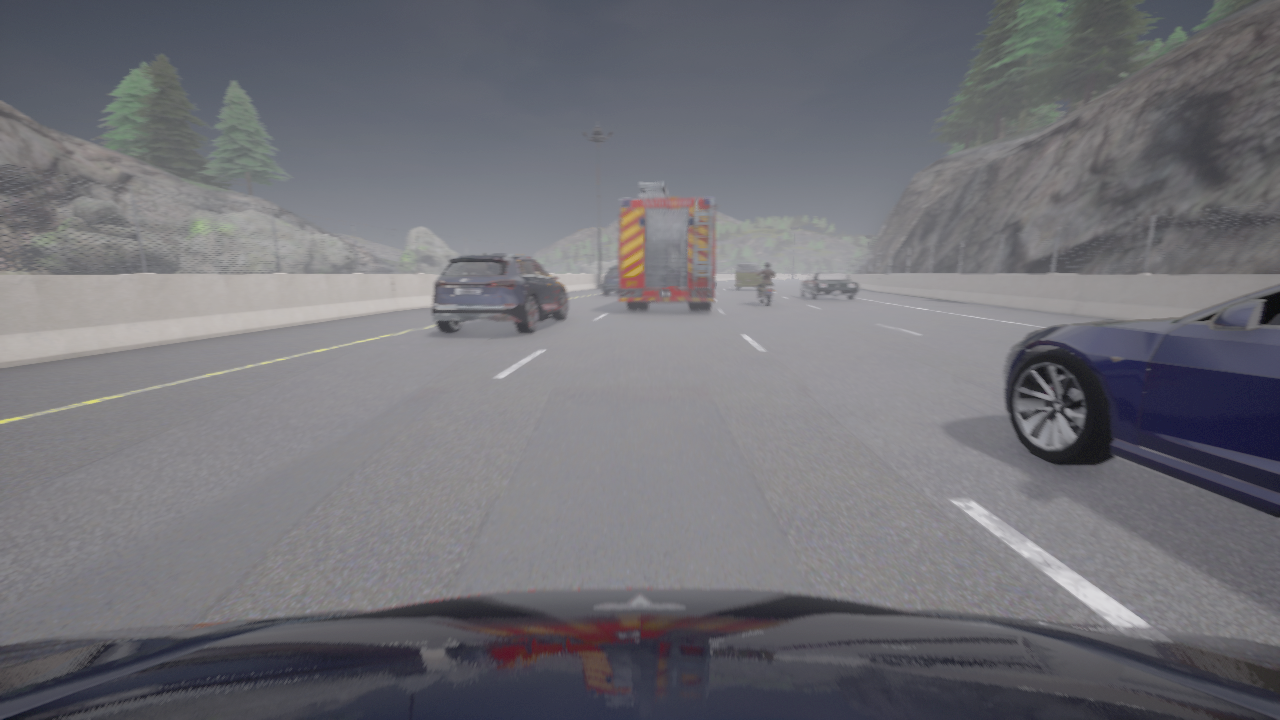cyclist: (0, 588, 1279, 719), (1003, 284, 1279, 518), (619, 182, 716, 310), (431, 251, 568, 333), (800, 271, 859, 299), (736, 263, 761, 289), (603, 266, 618, 295), (759, 277, 773, 306), (715, 278, 716, 287)
